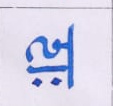i_matra: (23, 35, 44, 61)
